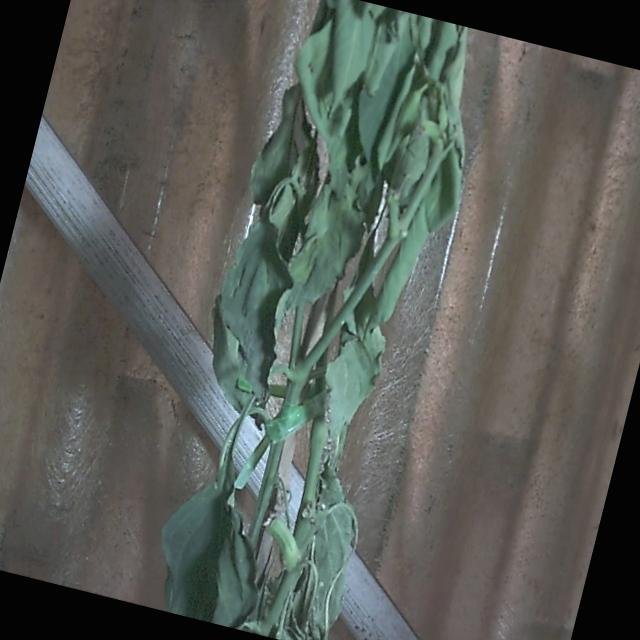Leaf: (200, 213, 312, 409), (150, 466, 280, 631), (309, 1, 382, 120)
